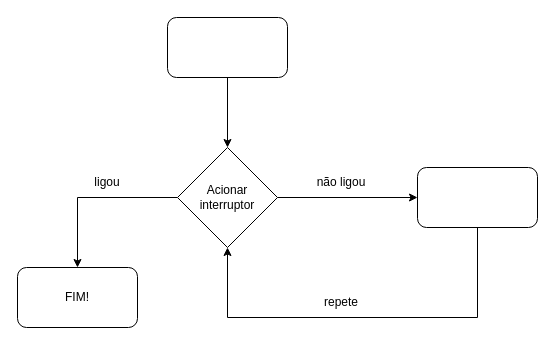
Image size: 555x345. Some labels were removed from this diagram. The shapes that lost their labels are listed below. From the top down, each one's centre as x and y in pixels, then its label:
the point at 227,47: Lâmpada Queimada
the point at 477,197: Retirar lâmpada queimada e substituir por uma nova lâmpada.
